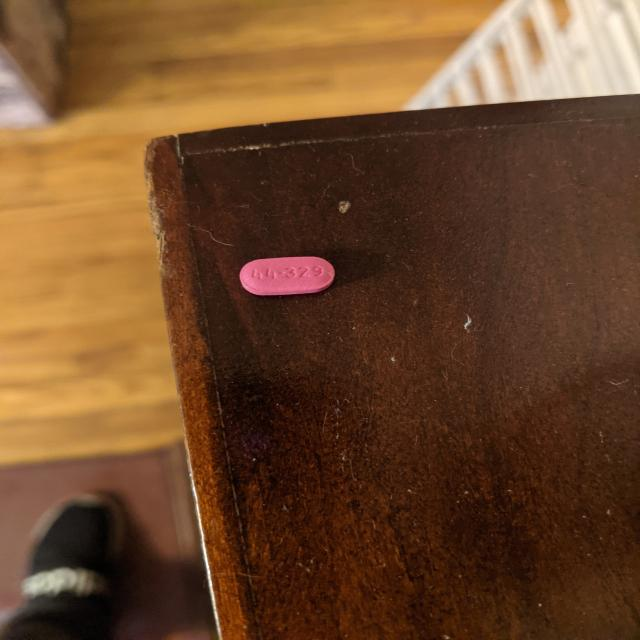non-organic waste: (238, 255, 337, 297)
